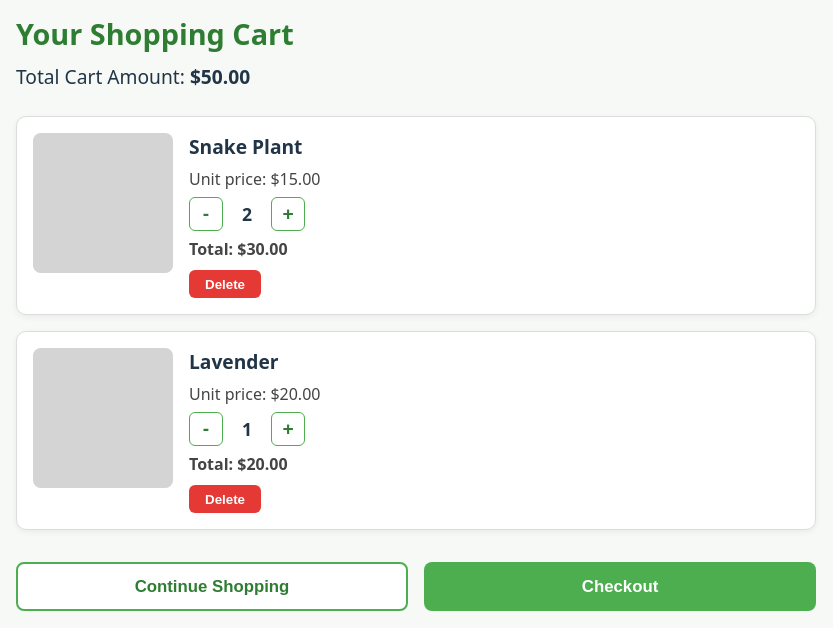
it: CartItem › decrements quantity and updates subtotal and total
The image size is (833, 628).
What coordinates should you click on to do the following:
click the button named "Decrease quantity of Snake Plant"
I would click on:
 (206, 214)
Its box is [189,197,223,231].
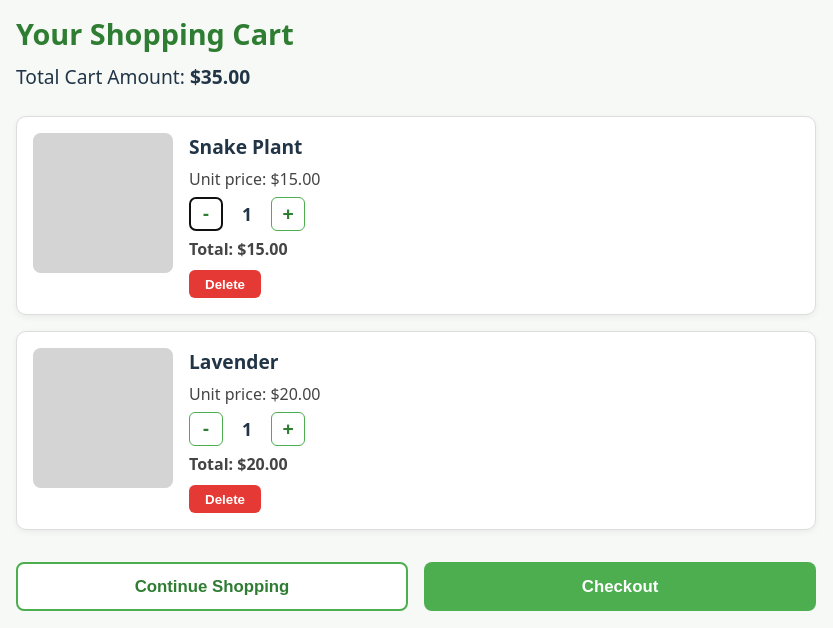
Expected: the text with test id "quantity-snake-plant" reads "1", [242,202,252,226]
Expected: the text with test id "subtotal-snake-plant" shows "$15.00", [237,238,288,260]
Expected: the element with test id "cart-total" shows "$35.00", [190,63,250,90]
